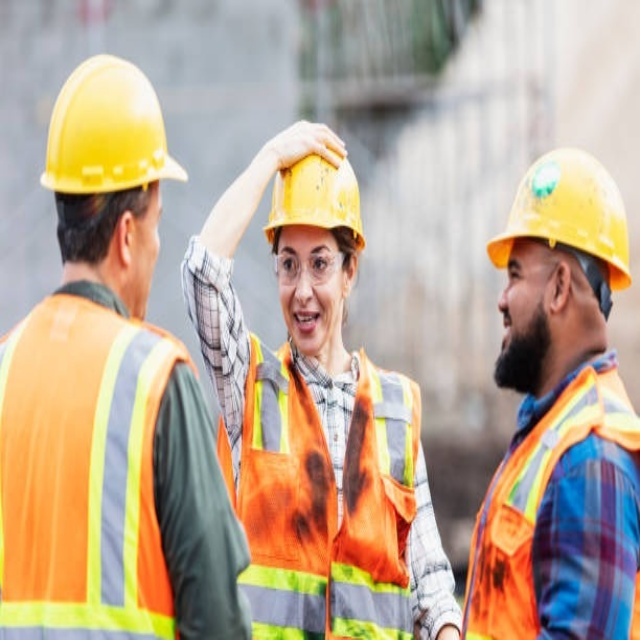Gafas: (269, 245, 348, 284)
Sin_gafas: (505, 252, 544, 298), (135, 195, 168, 245)
Sin_guantes: (264, 120, 347, 180)
Sin_mascara: (497, 301, 530, 368), (289, 301, 325, 346)
